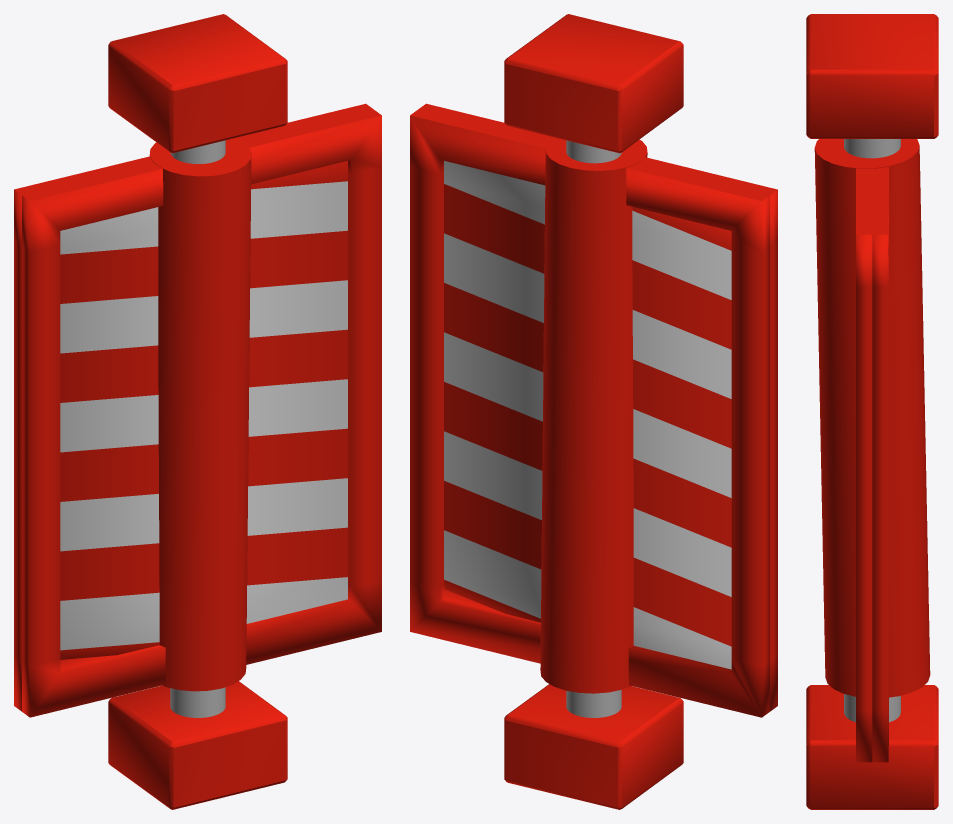
The model's file is engel3_4_1.fbx.
The picture shows the model from 3 angles, left to right: view 1: azimuth 30°, elevation 25°; view 2: azimuth 150°, elevation 25°; view 3: azimuth 270°, elevation 25°; orthographic projection. The views are drawn at different scales.
Parts seen in each view (by area): view 1: Plane.010, Cylinder, Cube.002, Cube.001, engel3.001; view 2: Plane.010, Cylinder, Cube.002, Cube.001, engel3.001; view 3: Cylinder, Plane.010, Cube.002, Cube.001, engel3.001.
Part boxes in pixels (x1,y1,x2,y2): Plane.010: (14, 103, 381, 717); Cylinder: (149, 138, 251, 691); Cube.002: (108, 14, 287, 153); Cube.001: (108, 681, 287, 809); engel3.001: (170, 140, 225, 717); Plane.010: (410, 103, 777, 717); Cylinder: (540, 137, 647, 693); Cube.002: (504, 14, 683, 153); Cube.001: (504, 684, 683, 809); engel3.001: (566, 140, 621, 717); Cylinder: (814, 139, 930, 697); Plane.010: (856, 167, 888, 762); Cube.002: (806, 14, 938, 138); Cube.001: (806, 685, 938, 809); engel3.001: (844, 139, 900, 722).
Size of the model in its own units: 25.21 by 49.6 by 8.04.
